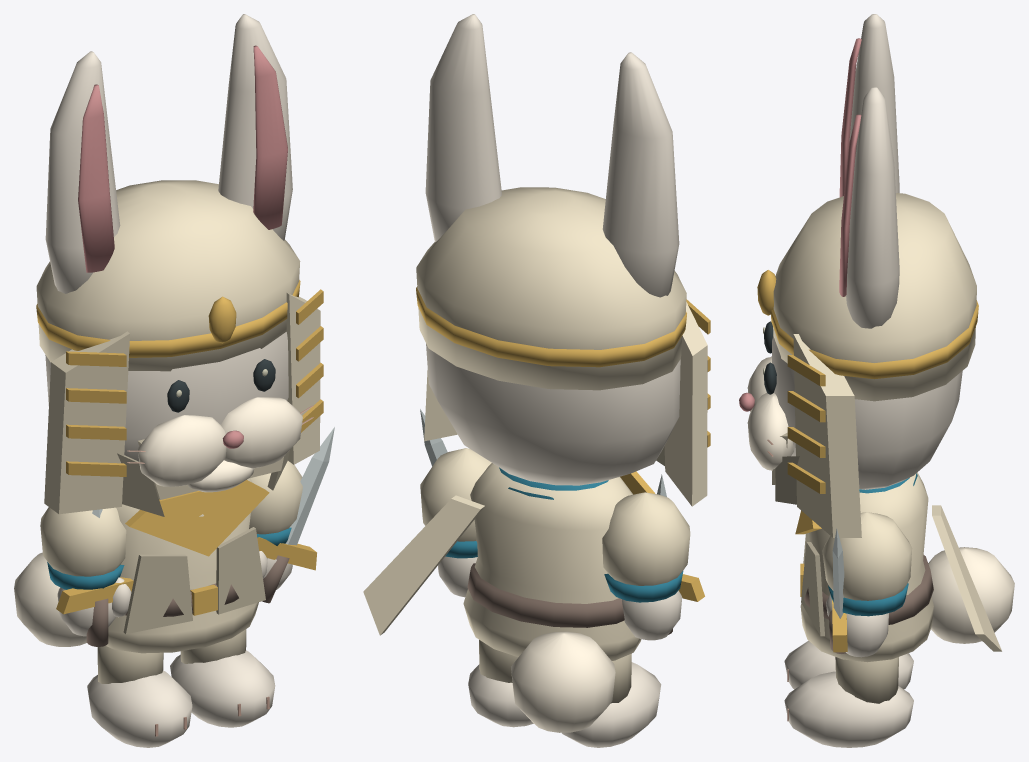
Rendered from assassin.glb.
3 renders of one model, left to right at view 1: azimuth 30°, elevation 25°; view 2: azimuth 150°, elevation 25°; view 3: azimuth 270°, elevation 25°, orthographic. The views are drawn at different scales.
Parts seen in each view (by area): view 1: Striped nemes crown, Nemes shoulder wing, Animal cheek head, Rabbit long soft ear, Short folded tunic, Rabbit long soft ear.001, Soft animal paw, Soft animal paw.001, Broad gold collar, Puff sleeve, Rabbit round cheek, Rabbit pink inner ear (+29 smaller); view 2: Striped nemes crown, Animal cheek head, Short folded tunic, Rabbit long soft ear, Rabbit long soft ear.001, Rabbit cotton tail, Puff sleeve, Nemes shoulder wing, Long scarf tail, Nemes front band, Broad leather belt, Soft animal paw (+9 smaller); view 3: Striped nemes crown, Rabbit long soft ear.001, Animal cheek head, Nemes shoulder wing.001, Short folded tunic, Soft animal paw.001, Puff sleeve.001, Rabbit cotton tail, Rabbit long soft ear, Nemes front band, Rabbit round cheek.001, Long scarf tail (+17 smaller).
Part boxes in pixels (x1,y1,x2,y2): Striped nemes crown: (36,180,300,371); Nemes shoulder wing: (44,331,129,514); Animal cheek head: (45,332,288,461); Rabbit long soft ear: (45,51,120,293); Short folded tunic: (106,478,258,653); Rabbit long soft ear.001: (218,14,292,240); Soft animal paw: (87,670,192,747); Soft animal paw.001: (170,650,275,727); Broad gold collar: (125,480,269,556); Puff sleeve: (40,507,126,576); Rabbit round cheek: (137,415,226,486); Rabbit pink inner ear: (78,84,114,272); Striped nemes crown: (416,187,686,390); Animal cheek head: (426,343,680,485); Short folded tunic: (463,463,641,660); Rabbit long soft ear: (602,52,679,297); Rabbit long soft ear.001: (425,14,501,241); Rabbit cotton tail: (511,631,615,732); Puff sleeve: (602,492,690,585); Nemes shoulder wing: (664,302,707,506); Long scarf tail: (363,495,484,635); Nemes front band: (416,286,686,367); Broad leather belt: (467,563,624,627); Soft animal paw: (562,662,661,747); Striped nemes crown: (773,193,976,401); Rabbit long soft ear.001: (846,87,899,328); Animal cheek head: (772,336,962,489); Nemes shoulder wing.001: (793,334,861,537); Short folded tunic: (800,472,933,662); Soft animal paw.001: (784,671,913,747); Puff sleeve.001: (822,512,912,600); Rabbit cotton tail: (928,547,1014,643); Rabbit long soft ear: (849,14,899,193); Nemes front band: (771,300,978,379); Rabbit round cheek.001: (747,393,793,470); Long scarf tail: (932,505,1001,651).
Size of the model in its own units: 0.8727 by 2.06 by 0.766.
